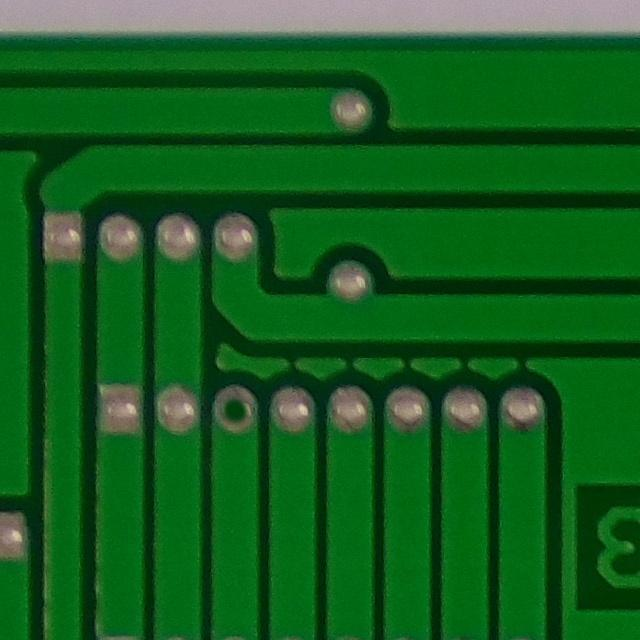missing_hole: (208, 375, 261, 439)
